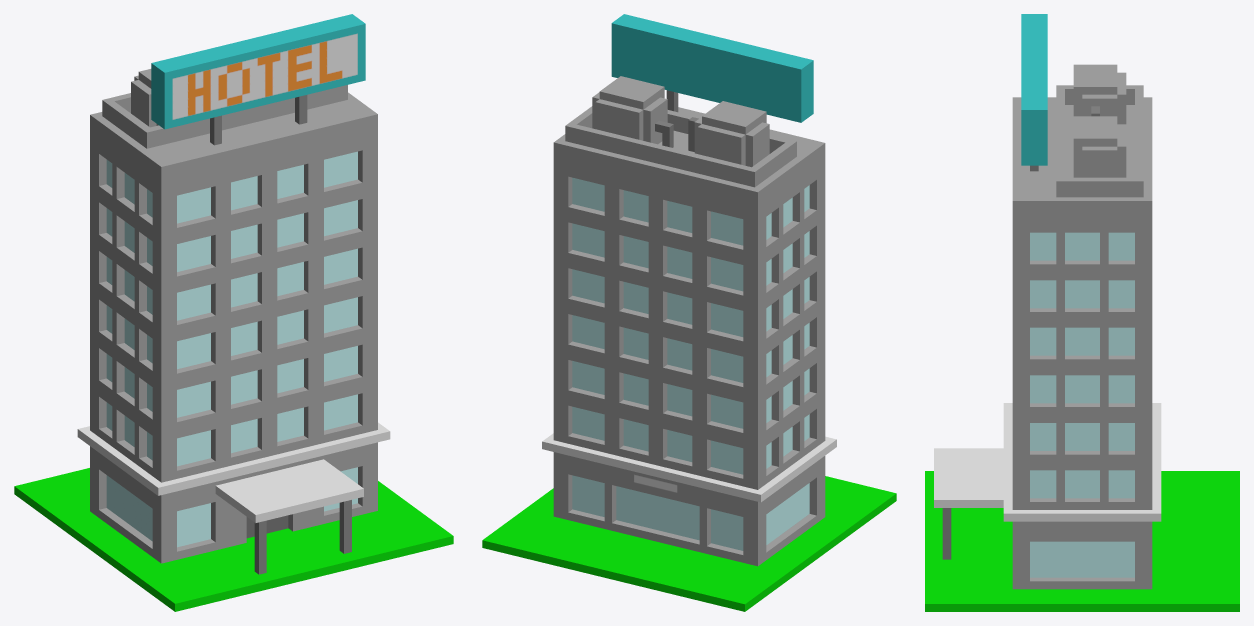
The model's file is building_05.fbx.
3 views of the same model, side by side, from view 1: azimuth 30°, elevation 25°; view 2: azimuth 150°, elevation 25°; view 3: azimuth 270°, elevation 25° (orthographic). The views are drawn at different scales.
Visible parts, largest first — view 1: building_05; view 2: building_05; view 3: building_05.
Part boxes in pixels (x1=…): building_05: x1=14, y1=14, x2=453, y2=611; building_05: x1=482, y1=14, x2=896, y2=611; building_05: x1=925, y1=14, x2=1239, y2=611.
Size of the model in its own units: 360 by 610 by 360.
1 material, 1 textured.
